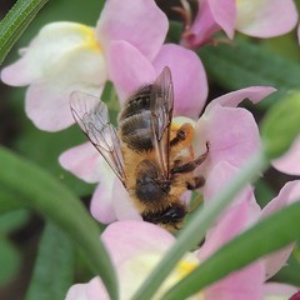bee: (65, 65, 228, 236)
